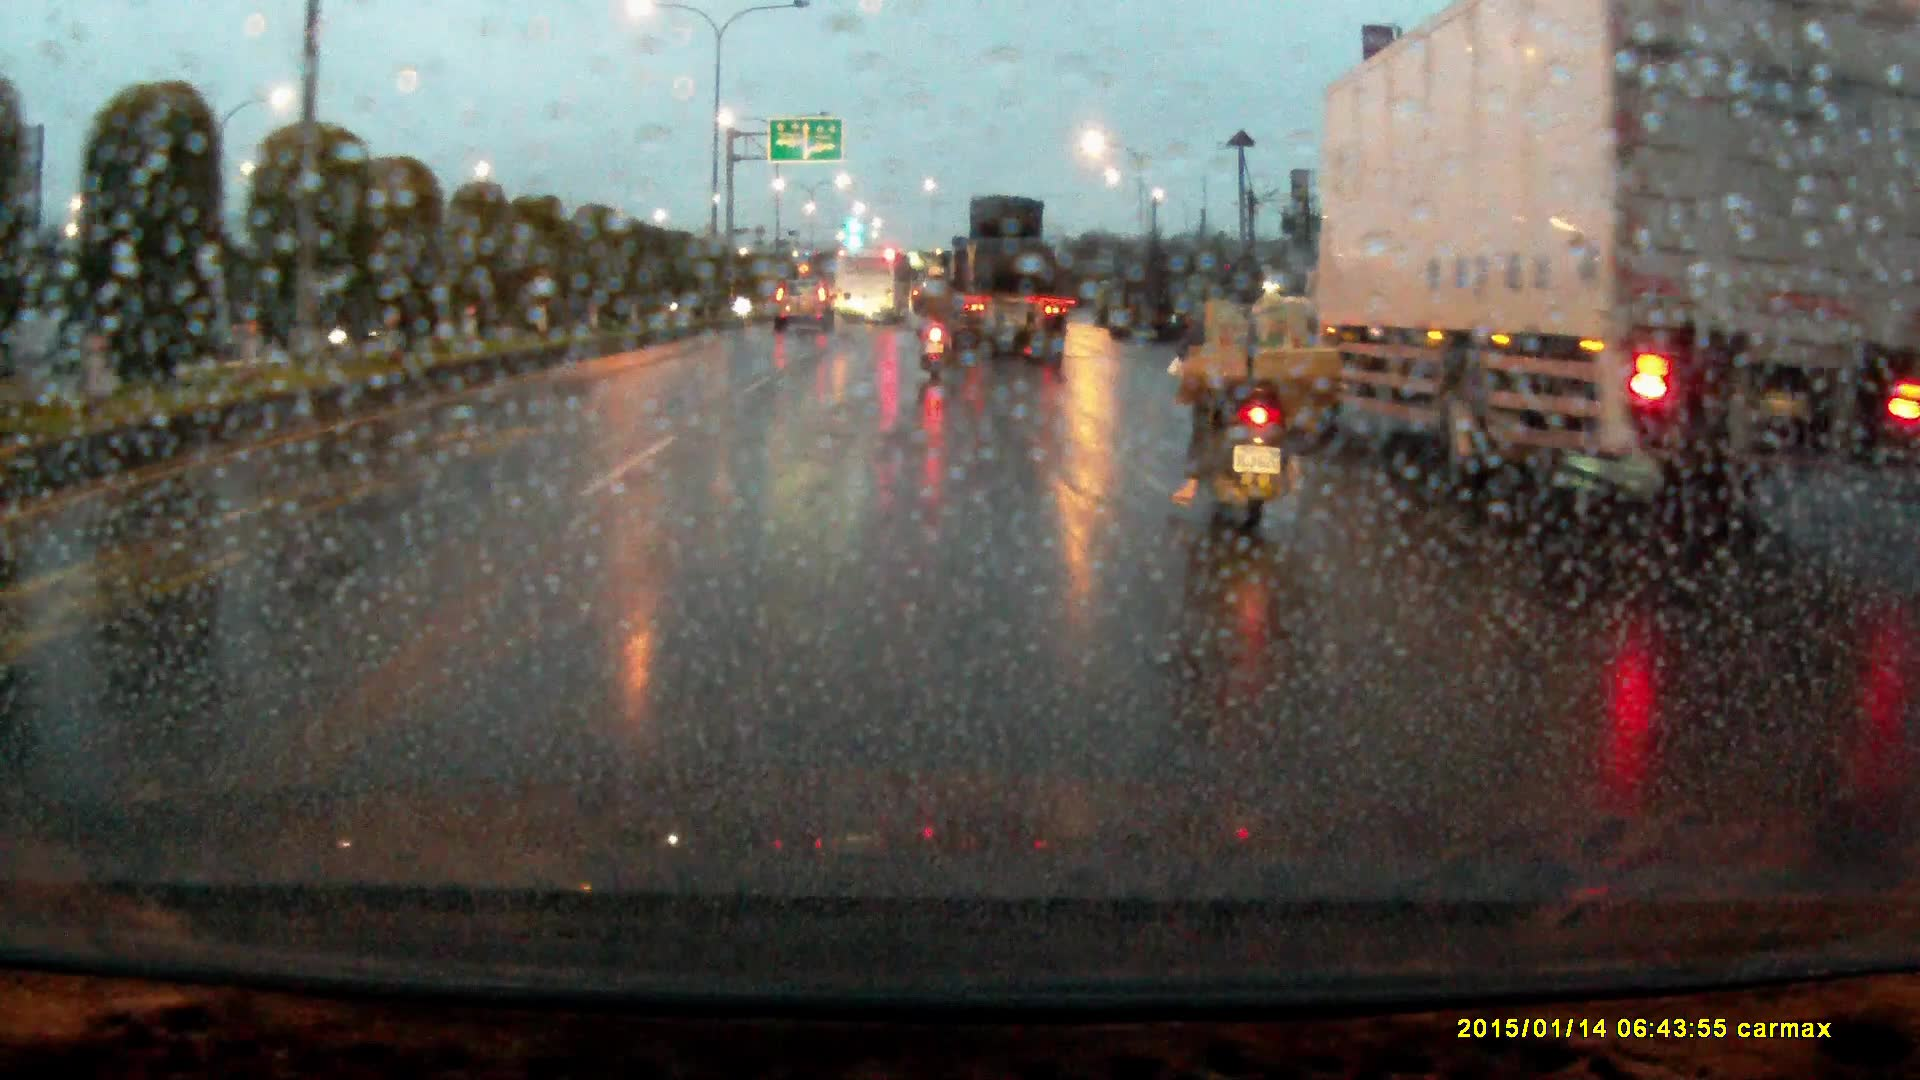rider: (1170, 253, 1351, 568), (912, 287, 955, 390)
vehicle: (1306, 1, 1895, 512), (930, 199, 1067, 368), (1099, 263, 1181, 350), (832, 256, 904, 332), (775, 280, 835, 342)
